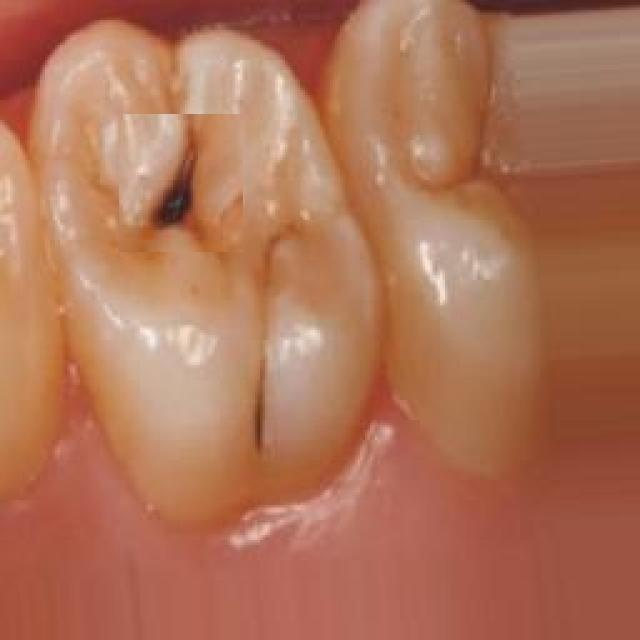decay: (58, 35, 340, 480), (120, 114, 244, 252)
